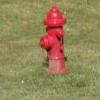Hydrant: (32, 3, 83, 76)
